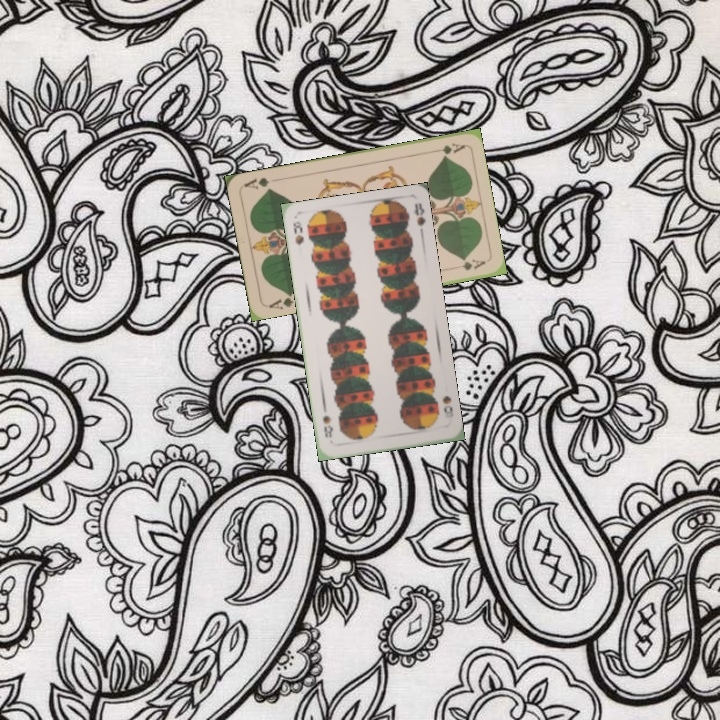GA: (427, 139, 467, 157), (265, 289, 296, 312)
S8: (289, 217, 306, 248), (438, 391, 455, 415)
